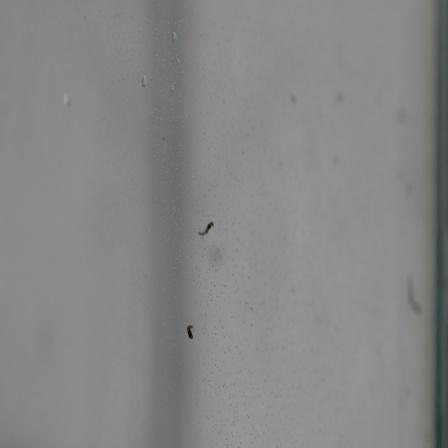Jentik-Nyamuk: (194, 218, 216, 241), (180, 321, 197, 343)
